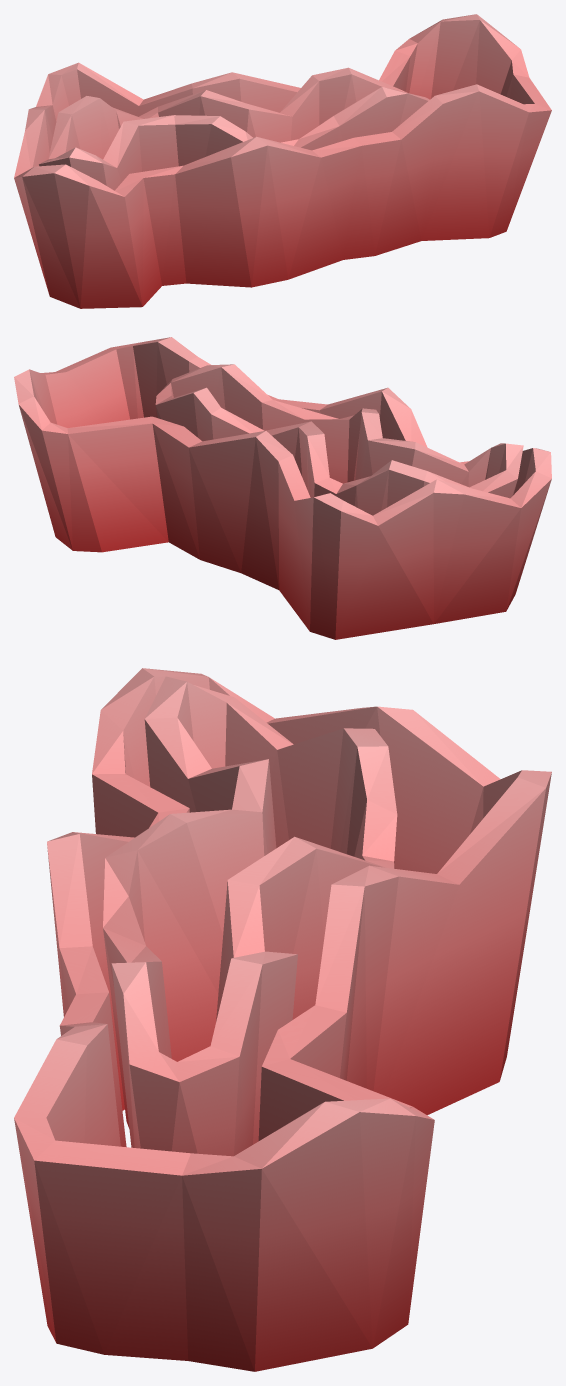
File: SM_Coral_25.fbx
The picture shows the model from 3 angles, top to bottom: view 1: azimuth 30°, elevation 25°; view 2: azimuth 150°, elevation 25°; view 3: azimuth 270°, elevation 25°; orthographic projection. The views are drawn at different scales.
Parts seen in each view (by area): view 1: Coral_25; view 2: Coral_25; view 3: Coral_25.
Boxes of the visible parts, <box> form: Coral_25: <box>14,14,551,308</box>; Coral_25: <box>14,337,551,639</box>; Coral_25: <box>14,668,551,1371</box>.
Size of the model in its own units: 375 by 110 by 179.
